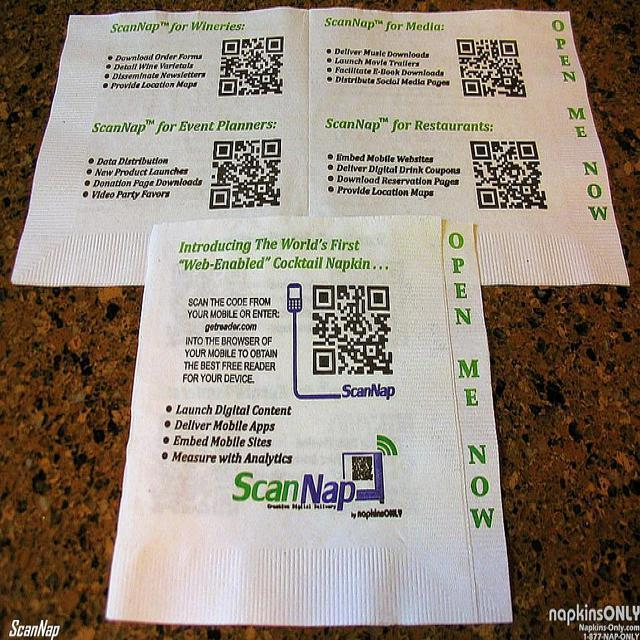qrcode: (314, 287, 393, 375), (471, 142, 548, 208), (210, 140, 281, 209), (457, 40, 527, 98), (219, 38, 284, 97)
